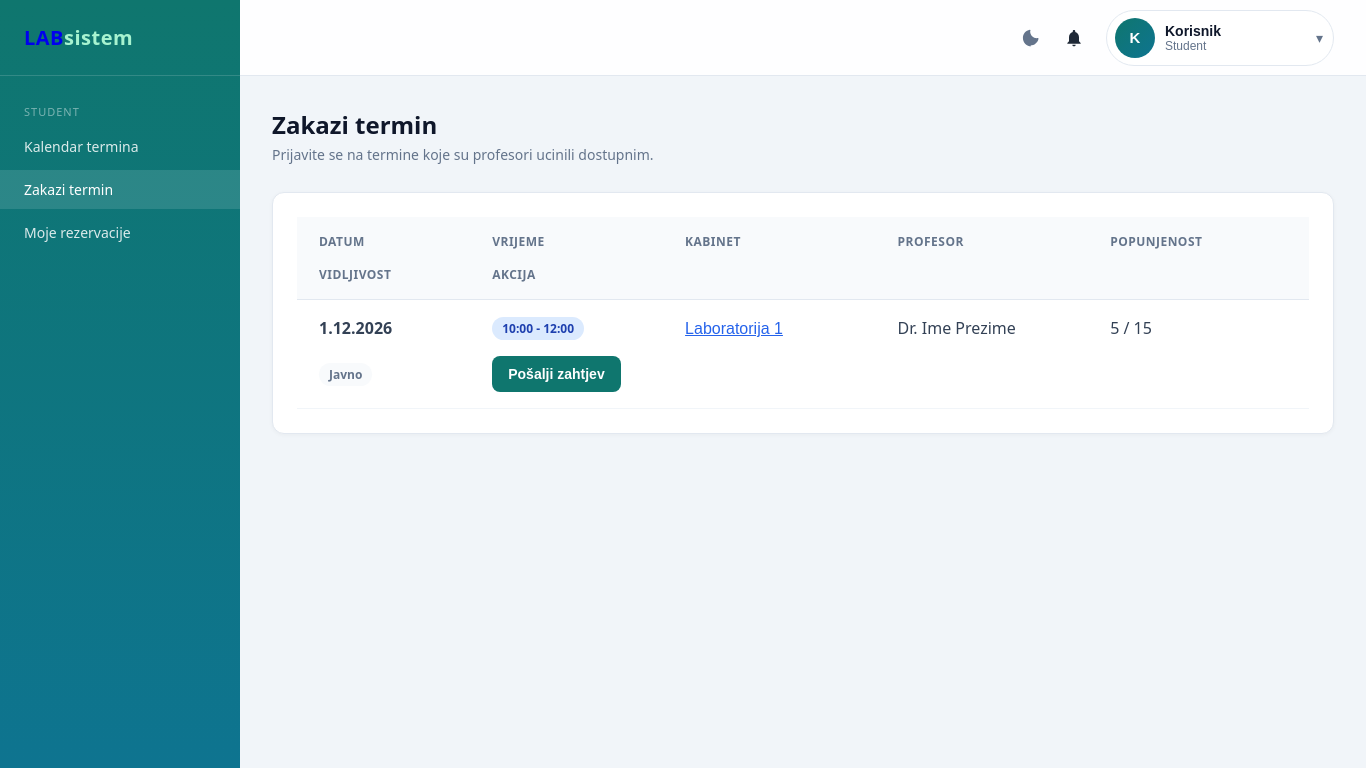
Test: Tok Zakazivanja Termina › Treba prikazati dostupne termine i uspješno poslati zahtjev
Expected: the button "Laboratorija 1" is shown, [685, 320, 783, 338]
Expected: the text "Dr. Ime Prezime" is shown, [898, 317, 1016, 339]
Note: Klikni na dugme za slanje zahtjeva
Click the button "Pošalji zahtjev": (557, 374) [492, 356, 621, 392]
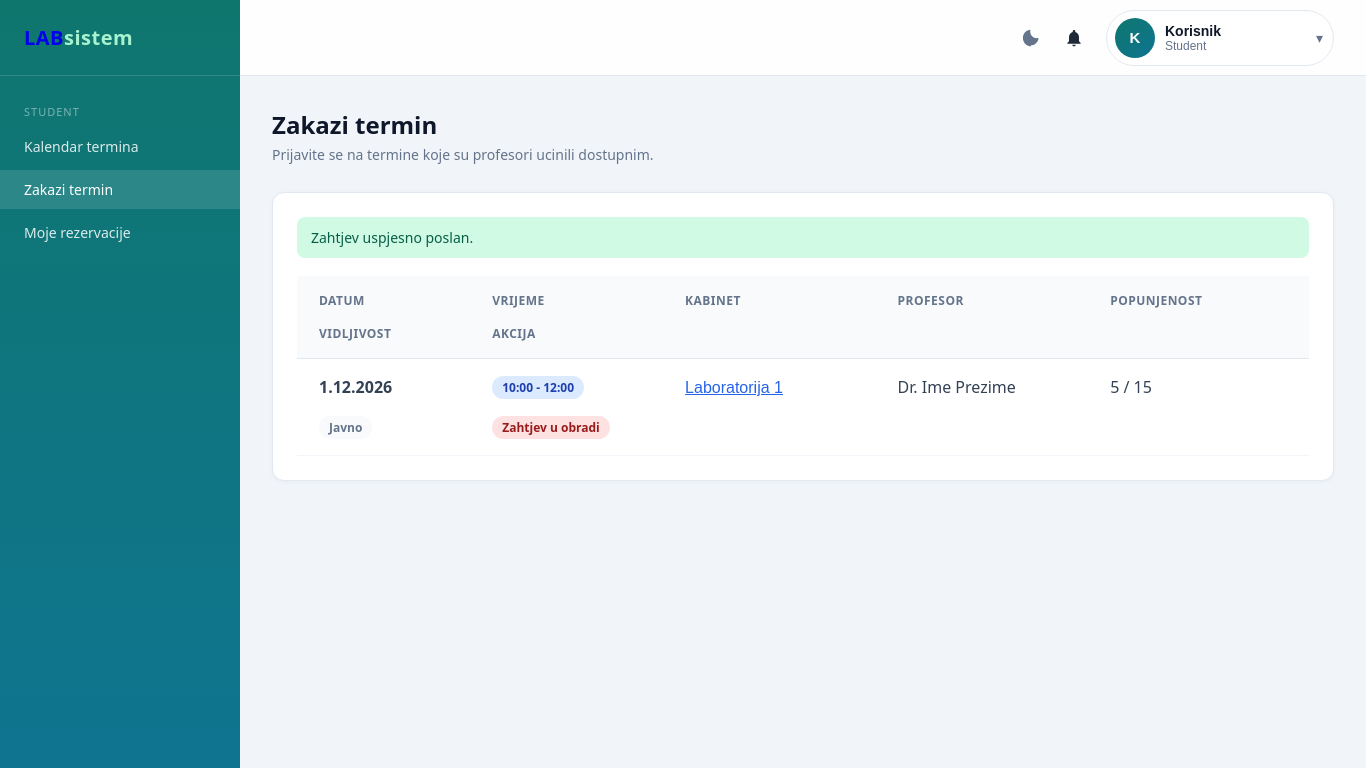
Expected: the text "Zahtjev u obradi" is shown, [492, 416, 610, 439]
